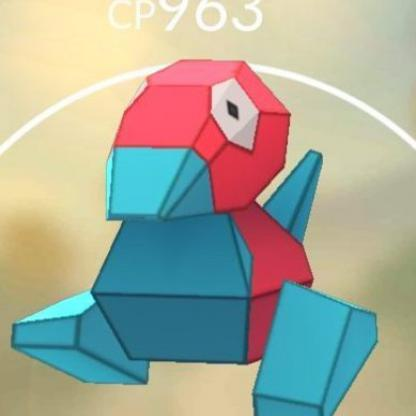Porygon: (20, 48, 371, 416)
